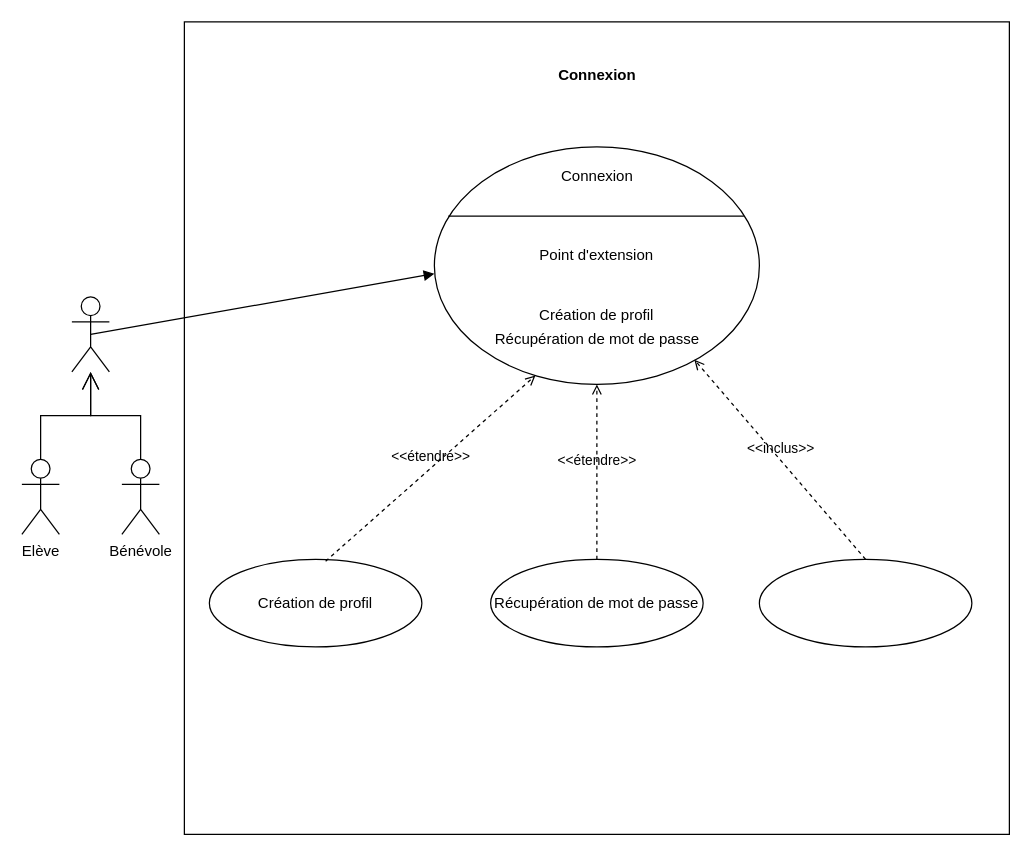
Image size: 1031x856. Some labels were removed from this diagram. Here are the shapes that lost their labels. From the top down, the centre of each, then its label:
the point at 90,334: Client
the point at 865,602: Vérification du mot de passe
